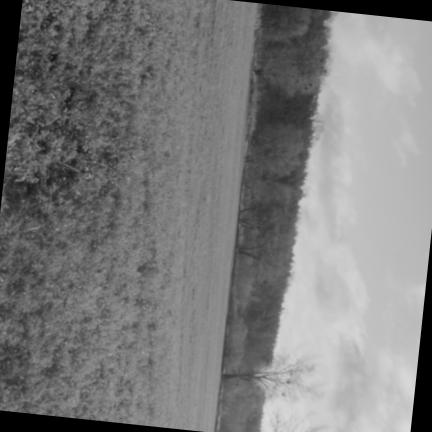Shahed: (50, 159, 87, 175)
